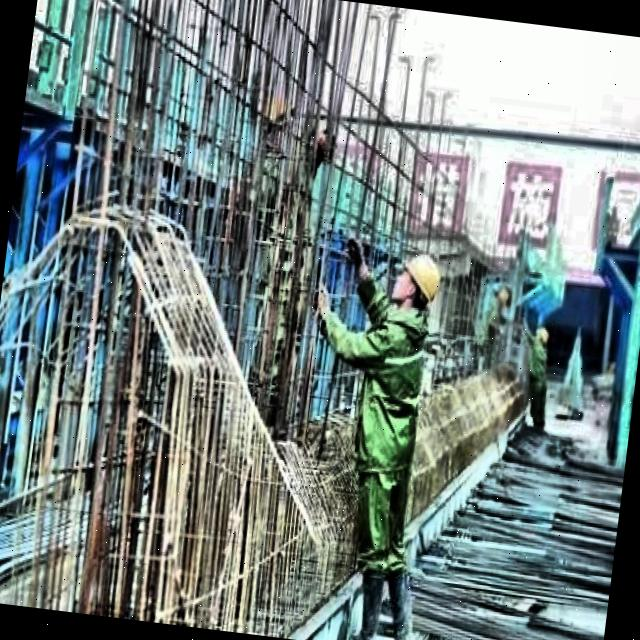helmet: (390, 251, 445, 314)
